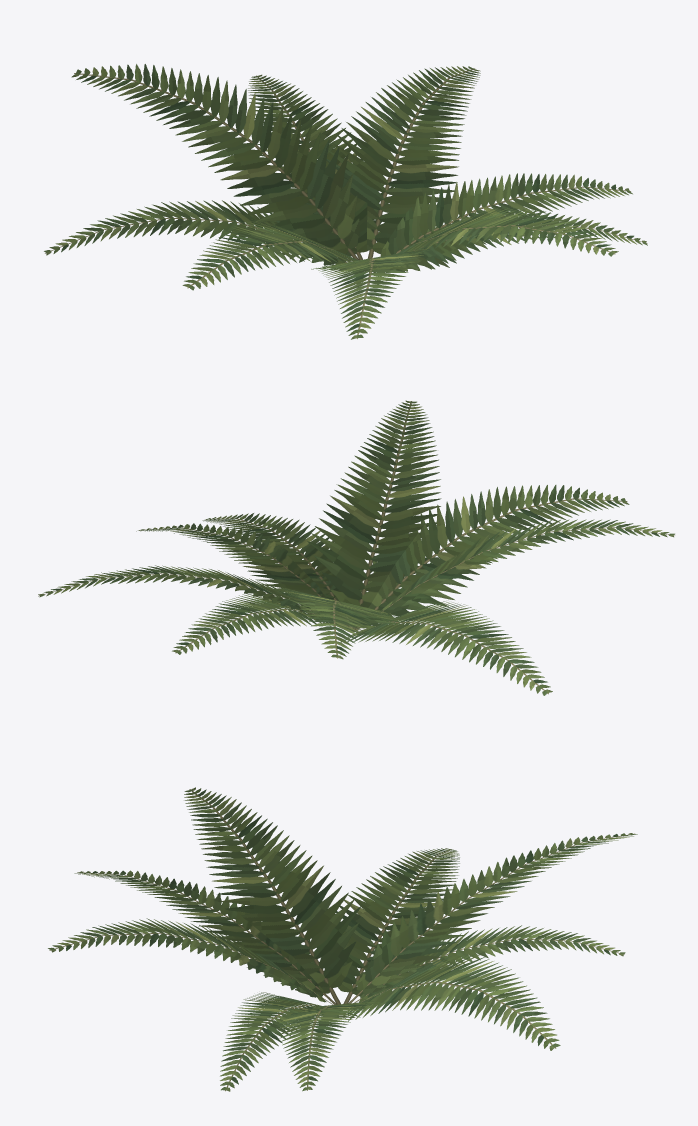
The model's file is SM_Fern.fbx.
3 renders of one model, top to bottom at view 1: azimuth 30°, elevation 25°; view 2: azimuth 150°, elevation 25°; view 3: azimuth 270°, elevation 25°, orthographic. The views are drawn at different scales.
Visible parts, largest first — view 1: SM_Fern_LOD0; view 2: SM_Fern_LOD0; view 3: SM_Fern_LOD0.
Part boxes in pixels (left/top/right/bottom): SM_Fern_LOD0: left=44, top=64, right=647, bottom=339; SM_Fern_LOD0: left=38, top=400, right=674, bottom=695; SM_Fern_LOD0: left=48, top=787, right=637, bottom=1091.
Size of what is drawn, in the model's own units: 1.54 by 0.4214 by 1.61.
